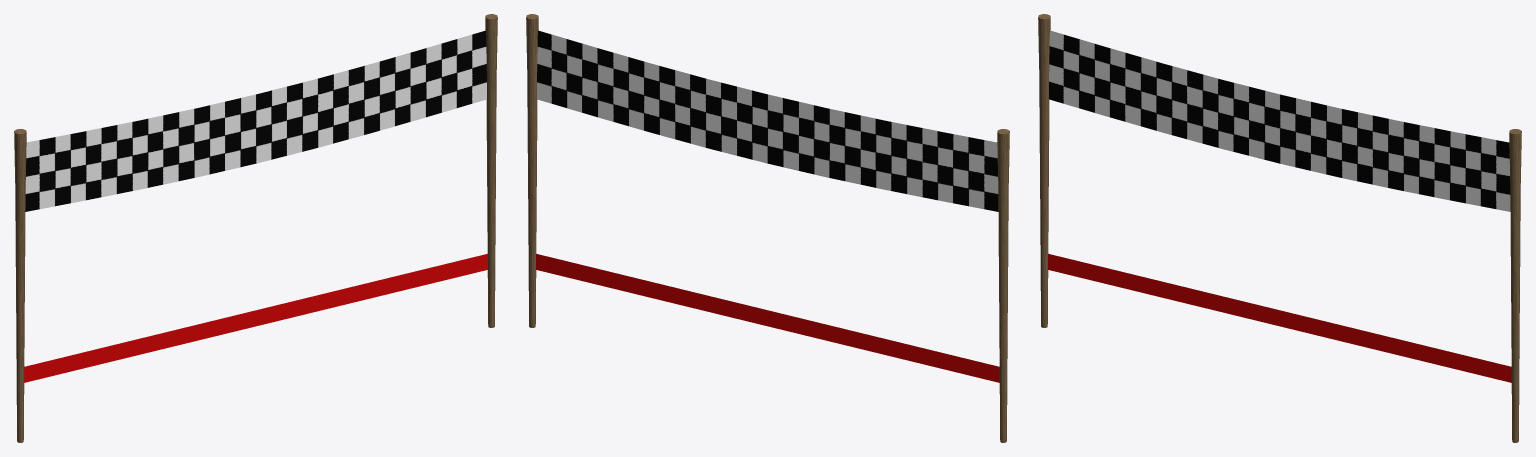
The model's file is Goal.fbx.
3 renders of one model, left to right at view 1: azimuth 30°, elevation 25°; view 2: azimuth 150°, elevation 25°; view 3: azimuth 330°, elevation 25°, orthographic.
Parts seen in each view (by area): view 1: pPlane1, pPlane2, pPlane4, pPlane3, polySurface2, polySurface1; view 2: pPlane1, pPlane2, pPlane4, pPlane3, polySurface2, polySurface1; view 3: pPlane1, pPlane2, pPlane4, pPlane3, polySurface1, polySurface2.
Part boxes in pixels (box(x1,y1,x2,y2)): pPlane1: box(25, 30, 486, 211); pPlane2: box(25, 31, 485, 209); pPlane4: box(24, 310, 263, 382); pPlane3: box(256, 253, 487, 326); polySurface2: box(14, 129, 26, 442); polySurface1: box(485, 14, 497, 327); pPlane1: box(537, 30, 998, 211); pPlane2: box(537, 30, 997, 209); pPlane4: box(760, 310, 999, 382); pPlane3: box(536, 253, 767, 326); polySurface2: box(997, 129, 1009, 442); polySurface1: box(526, 14, 538, 327); pPlane1: box(1049, 30, 1510, 211); pPlane2: box(1049, 31, 1510, 211); pPlane4: box(1048, 253, 1287, 326); pPlane3: box(1280, 310, 1511, 382); polySurface1: box(1509, 129, 1521, 442); polySurface2: box(1038, 14, 1050, 327).
Bounding box in the file's own units: 14.34 × 8.8 × 0.3374.
